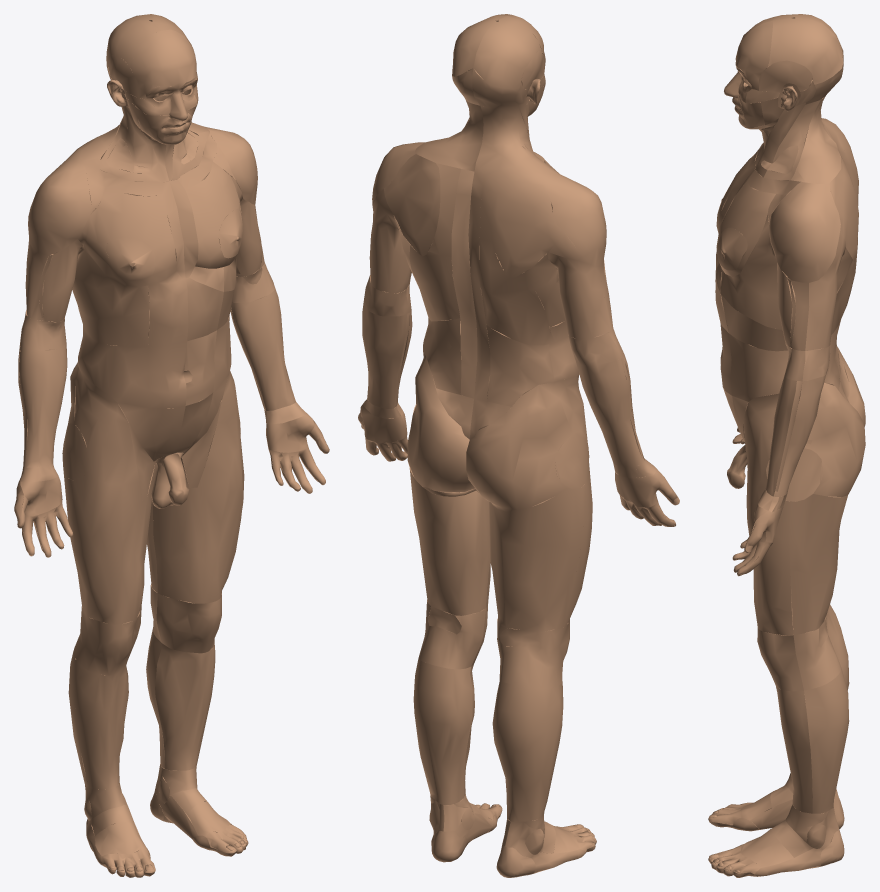
The model's file is body.skin.glb.
The picture shows the model from 3 angles, left to right: view 1: azimuth 30°, elevation 25°; view 2: azimuth 150°, elevation 25°; view 3: azimuth 270°, elevation 25°; orthographic projection.
Visible parts, largest first — view 1: body__anterior_region_of_thigh_right, body__anterior_region_of_thigh_left, body__anterior_region_of_leg_left, body__anterior_region_of_leg_right, body__pectoral_region_right, body__deltoid_region_right, body__anterior_region_of_forearm_left, body__anterior_region_of_forearm_right, body__lateral_region_of_thorax_right, body__lateral_region_of_abdomen_right, body__pectoral_region_left, body__anterior_region_of_knee_left (+48 smaller); view 2: body__posterior_region_of_thigh_right, body__gluteal_region_right, body__posterior_region_of_thigh_left, body__posterior_region_of_leg_right, body__posterior_region_of_leg_left, body__gluteal_region_left, body__scapular_region_right, body__infrascapular_region_right, body__posterior_region_of_arm_right, body__posterior_region_of_forearm_right, body__scapular_region_left, body__vertebral_region_left (+35 smaller); view 3: body__anterior_region_of_thigh_left, body__posterior_region_of_thigh_left, body__deltoid_region_left, body__gluteal_region_left, body__posterior_region_of_leg_left, body__lateral_region_of_thorax_left, body__parietal_region_left, body__anterior_region_of_leg_left, body__lateral_region_of_abdomen_left, body__posterior_region_of_arm_left, body__pectoral_region_left, body__posterior_region_of_neck_left (+48 smaller).
Part boxes in pixels (x1,y1,x2,y2): body__anterior_region_of_thigh_right: [69, 367, 156, 624]; body__anterior_region_of_thigh_left: [153, 371, 244, 603]; body__anterior_region_of_leg_left: [155, 643, 215, 770]; body__anterior_region_of_leg_right: [75, 663, 128, 789]; body__pectoral_region_right: [95, 187, 176, 286]; body__deltoid_region_right: [28, 155, 91, 255]; body__anterior_region_of_forearm_left: [231, 288, 295, 410]; body__anterior_region_of_forearm_right: [22, 344, 67, 467]; body__lateral_region_of_thorax_right: [72, 207, 149, 318]; body__lateral_region_of_abdomen_right: [77, 327, 148, 407]; body__pectoral_region_left: [185, 161, 241, 268]; body__anterior_region_of_knee_left: [156, 593, 221, 653]; body__posterior_region_of_thigh_right: [488, 486, 583, 632]; body__gluteal_region_right: [466, 382, 572, 509]; body__posterior_region_of_thigh_left: [408, 463, 490, 615]; body__posterior_region_of_leg_right: [492, 680, 559, 822]; body__posterior_region_of_leg_left: [413, 659, 472, 804]; body__gluteal_region_left: [407, 351, 474, 492]; body__scapular_region_right: [490, 181, 563, 277]; body__infrascapular_region_right: [479, 264, 550, 345]; body__posterior_region_of_arm_right: [548, 232, 611, 339]; body__posterior_region_of_forearm_right: [575, 359, 645, 466]; body__scapular_region_left: [383, 154, 440, 256]; body__vertebral_region_left: [451, 169, 477, 398]; body__anterior_region_of_thigh_left: [743, 393, 793, 635]; body__posterior_region_of_thigh_left: [789, 494, 847, 635]; body__deltoid_region_left: [769, 182, 840, 282]; body__gluteal_region_left: [804, 382, 865, 496]; body__posterior_region_of_leg_left: [804, 668, 849, 813]; body__lateral_region_of_thorax_left: [720, 214, 852, 329]; body__parietal_region_left: [768, 18, 843, 84]; body__anterior_region_of_leg_left: [776, 686, 812, 813]; body__lateral_region_of_abdomen_left: [729, 333, 788, 401]; body__posterior_region_of_arm_left: [805, 233, 845, 350]; body__pectoral_region_left: [716, 181, 775, 276]; body__posterior_region_of_neck_left: [791, 96, 841, 183].
Bounding box in the file's own units: 0.6801 × 1.71 × 0.294.
1 material, 1 textured.
